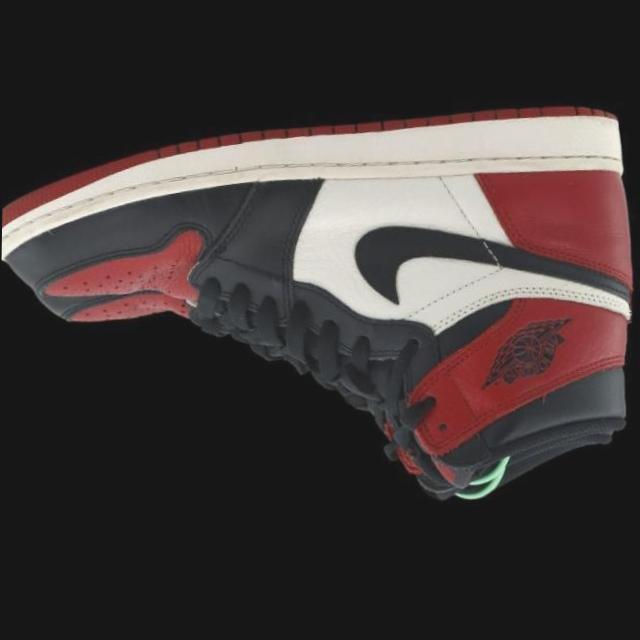nike_original_jordan: (0, 73, 640, 558), (31, 210, 626, 554)
